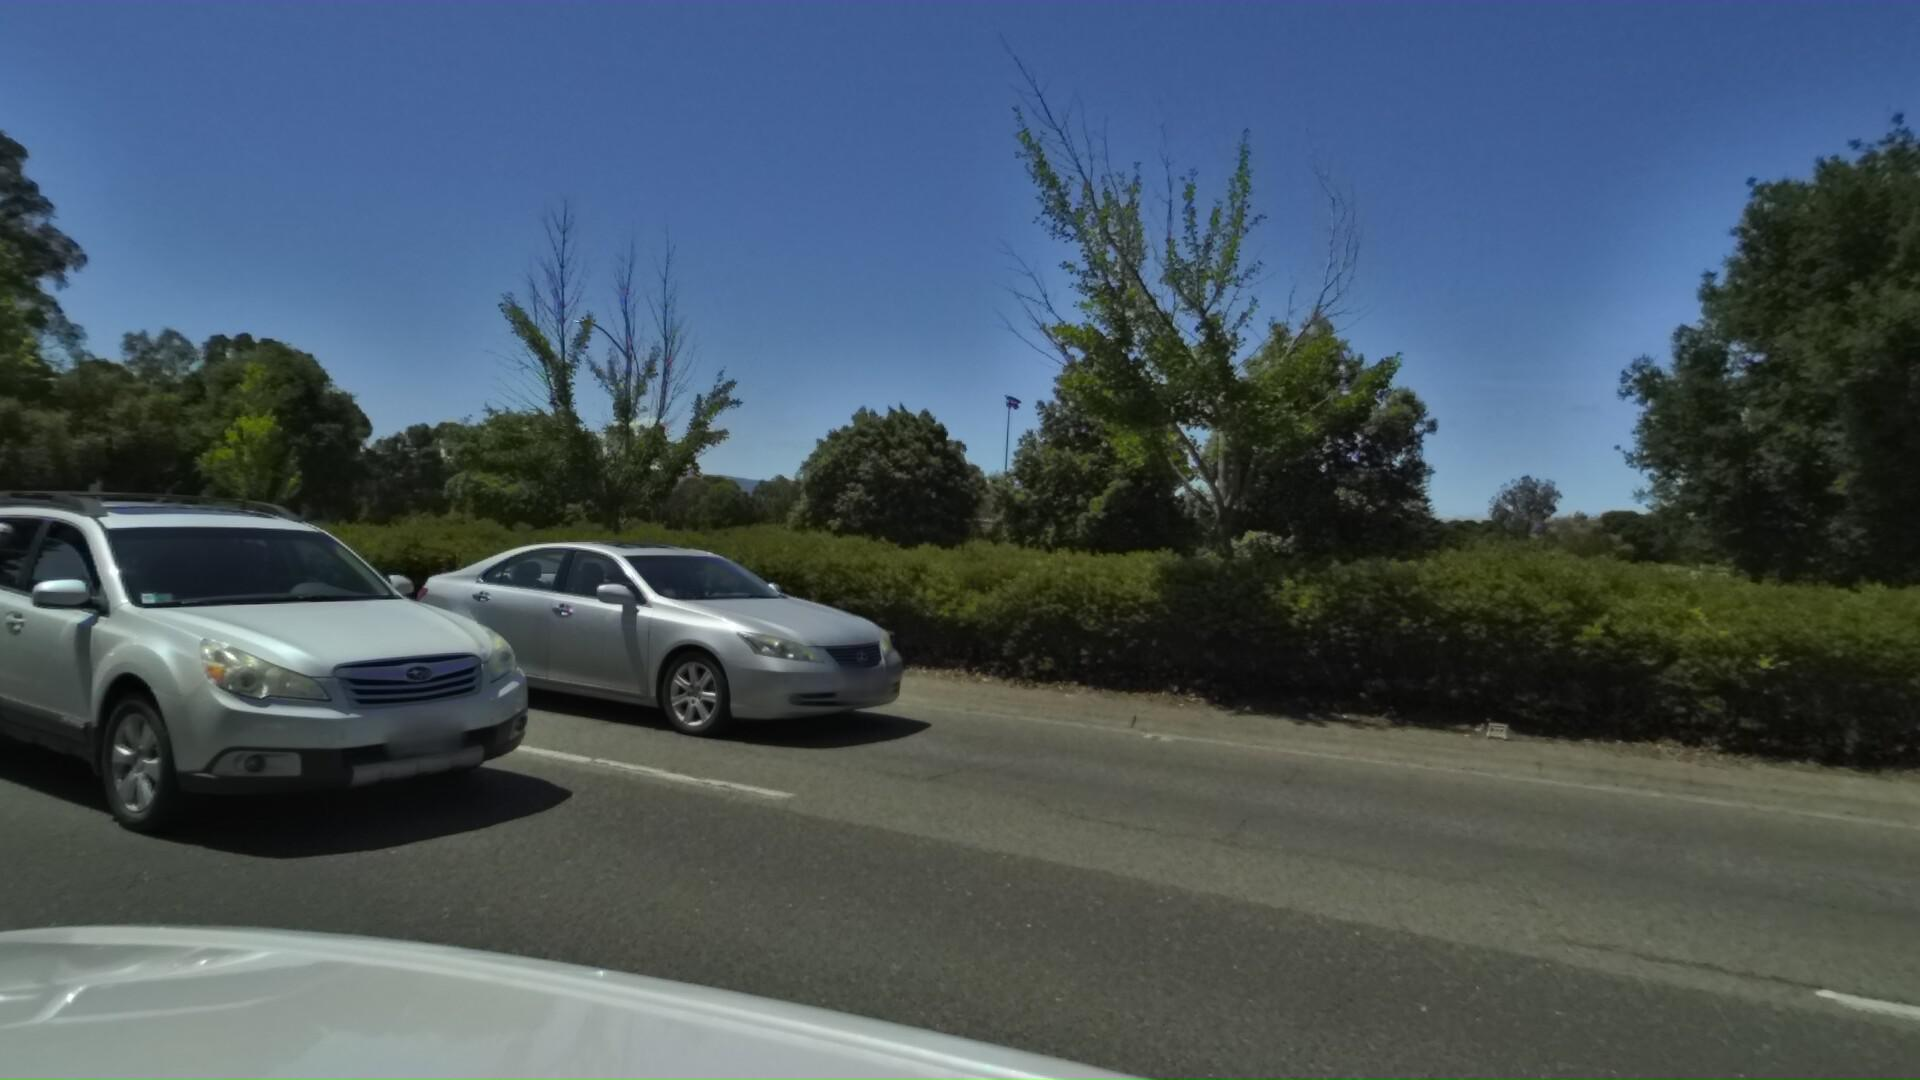car: (0, 489, 585, 891), (382, 530, 968, 773)
